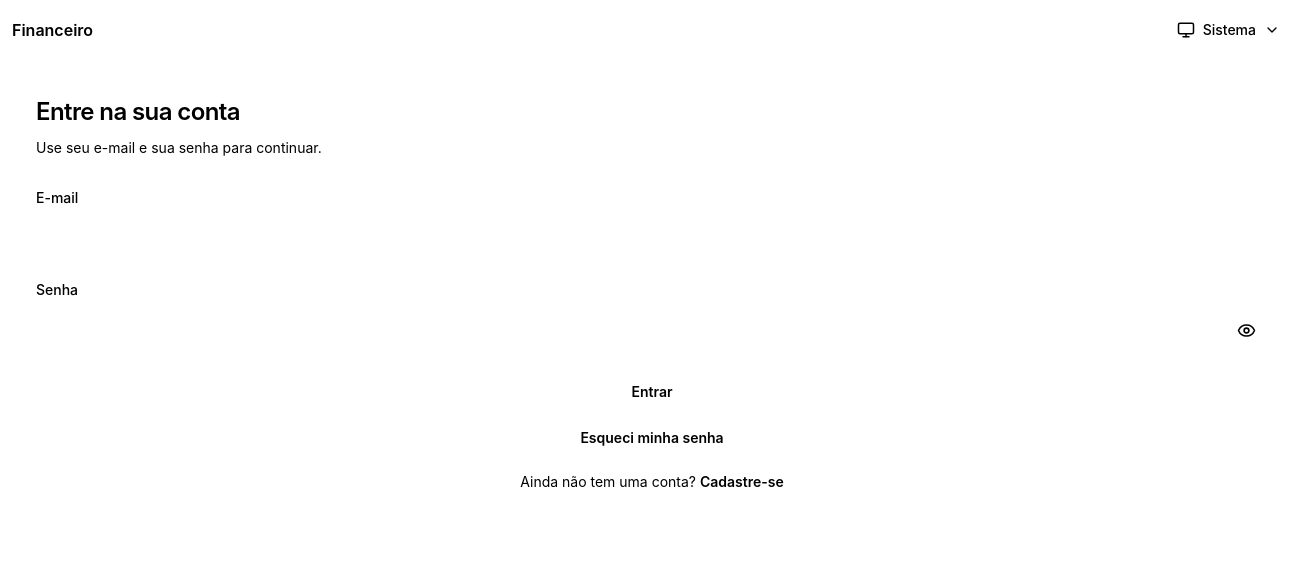
it: páginas de autenticação › navega entre login e cadastro
Step 1. Click the link "Cadastre-se" → (742, 482), box [700,473,784,490]
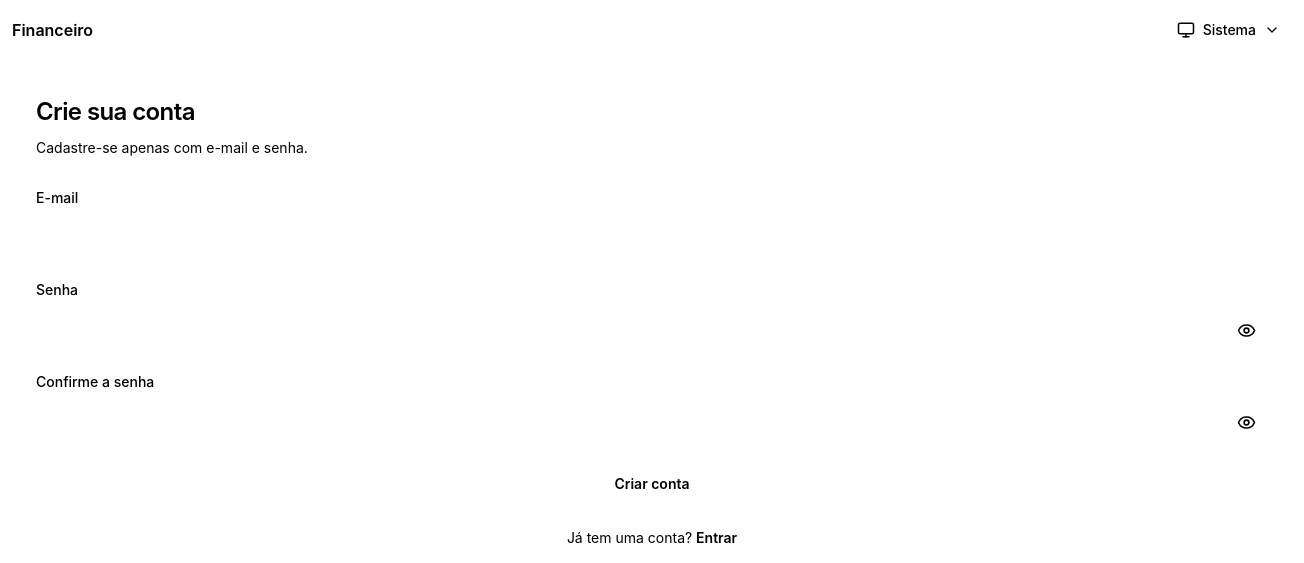
Expected: the heading "Crie sua conta" is shown, [36,97,195,126]
Step 2. Click the link "Entrar" → (717, 538), box [696,529,737,546]
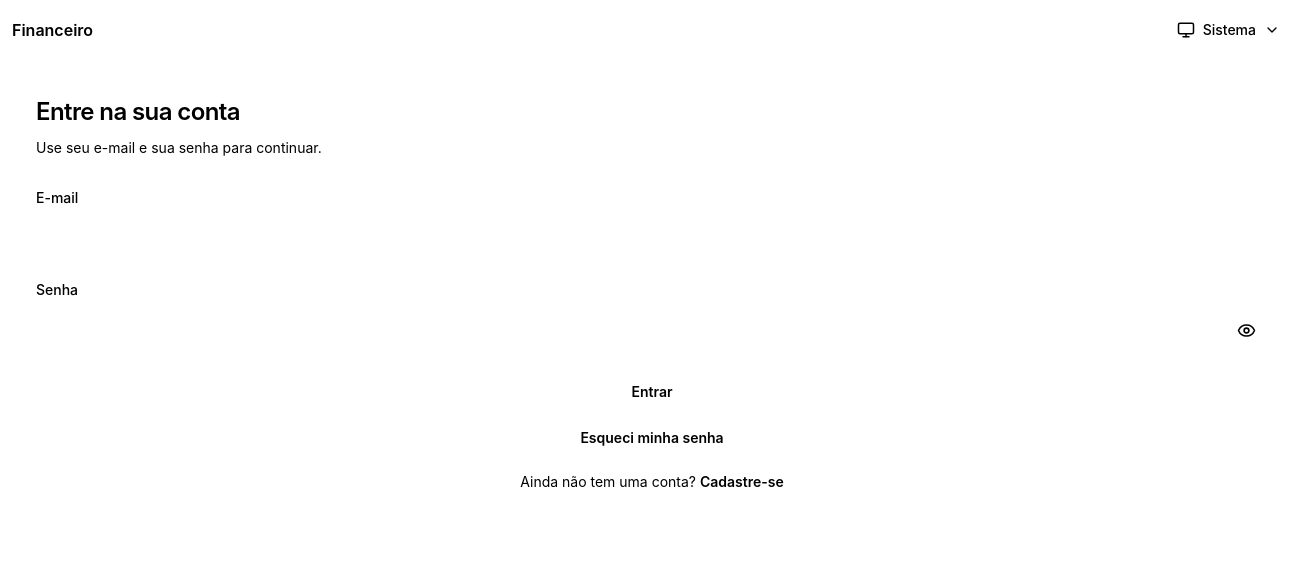
Expected: the heading "Entre na sua conta" is shown, [36,97,240,126]
